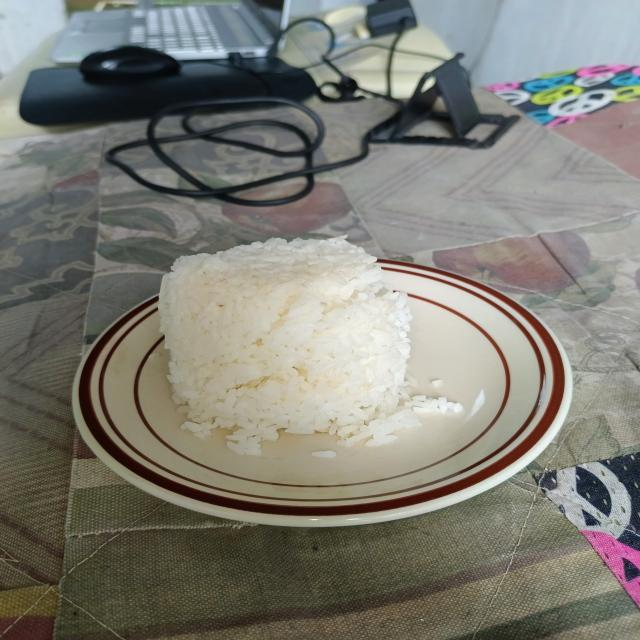Chicken -Chicken Inasal-: (162, 230, 432, 464)
